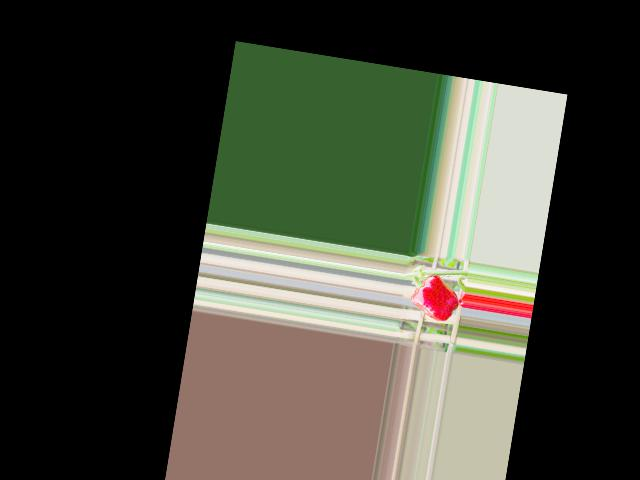bell_pepper: (407, 268, 462, 326)
